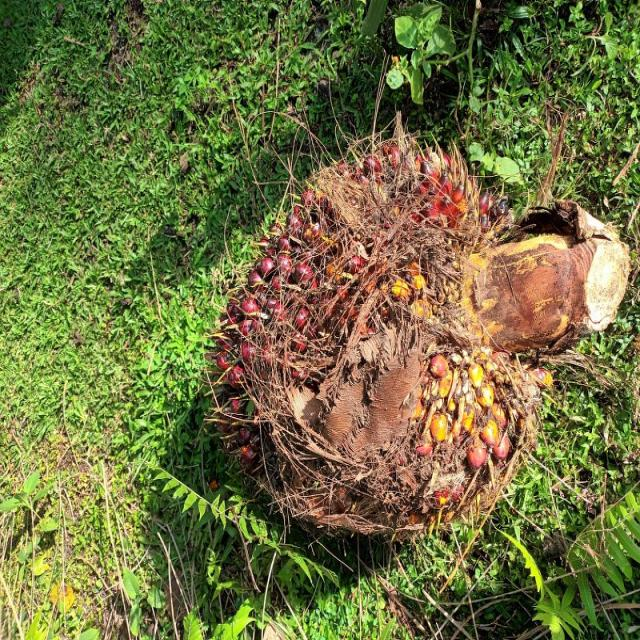fraksi 1: (53, 228, 392, 640)
